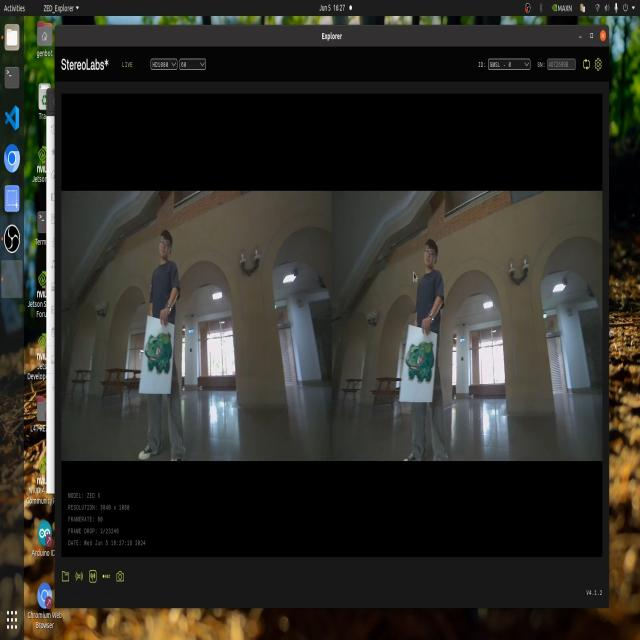green: (144, 328, 177, 377), (400, 344, 434, 387)
